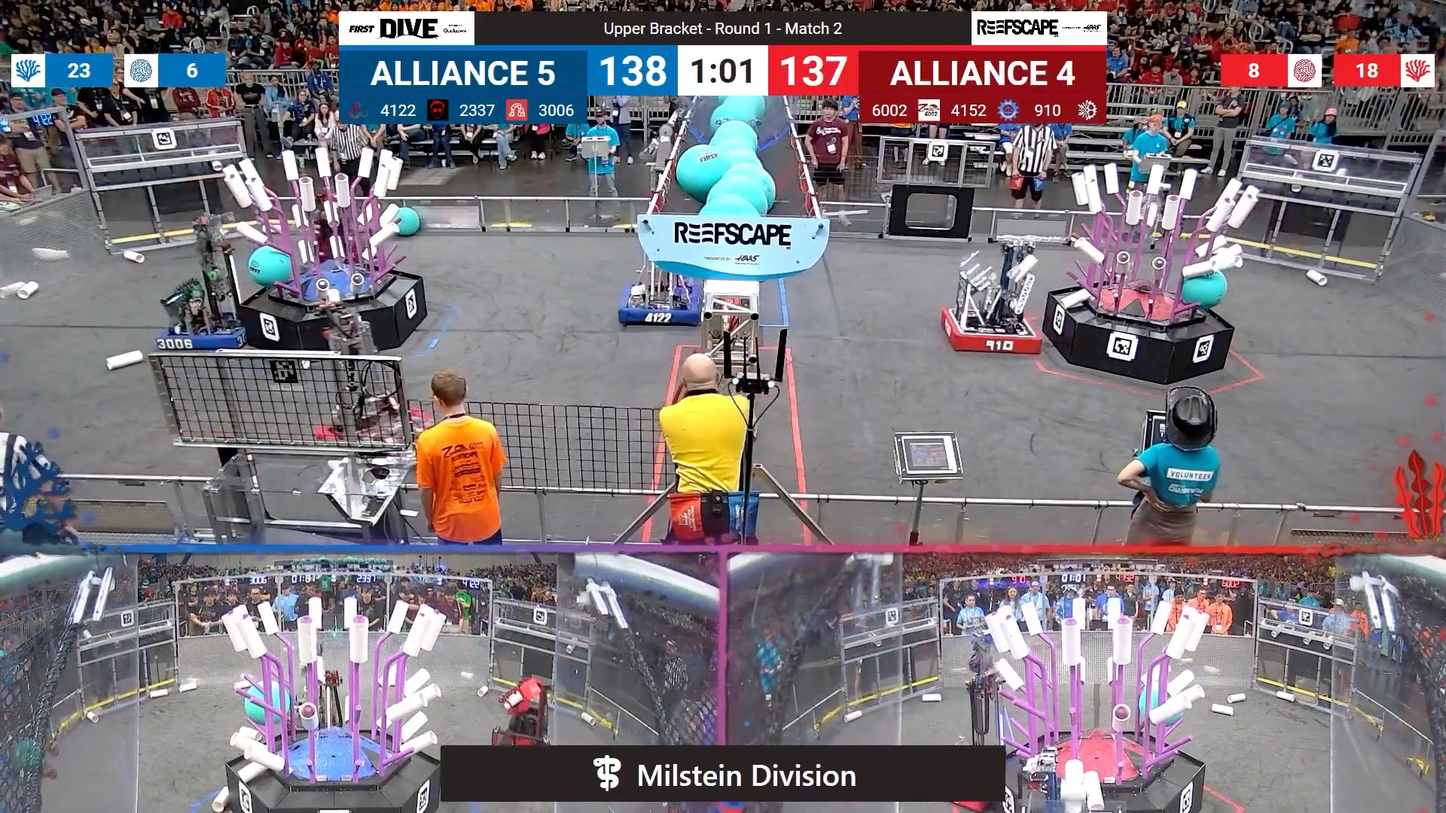bumpers: (936, 300, 1048, 360), (613, 276, 711, 330), (154, 307, 250, 352)
